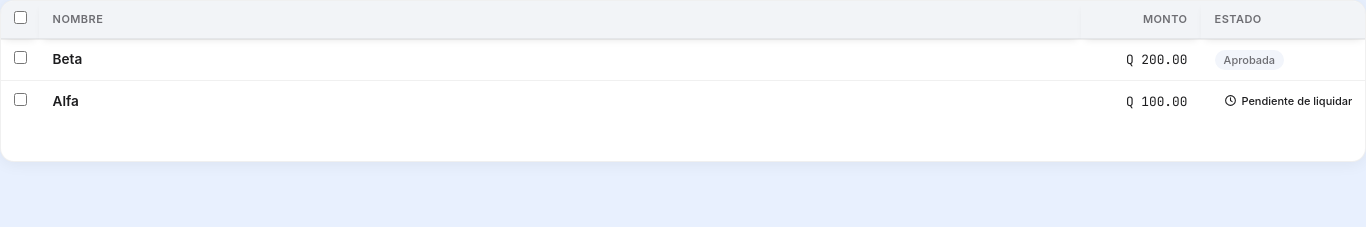
Test case: DataTable — selección y acciones masivas › marcar una fila muestra la barra de seleccion; Limpiar la oculta
Click the checkbox named "Seleccionar fila" next to "Beta" at (20, 58), box [14,52,26,64]
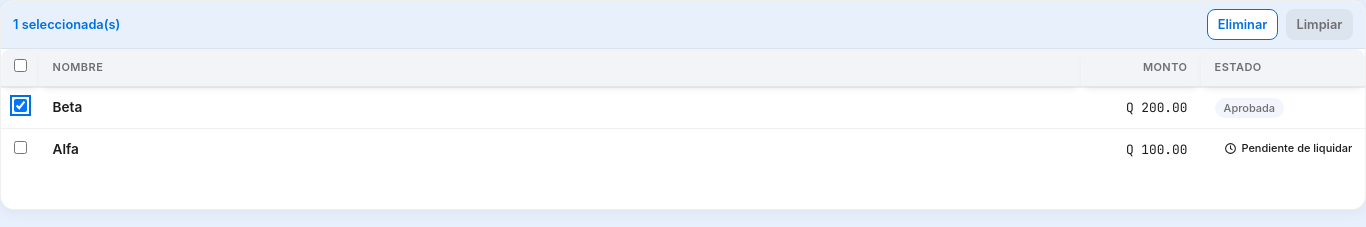
Check: the text "1 seleccionada(s)" is shown, box [13,15,120,34]
Click the button "Eliminar" at (1243, 24), box [1207,9,1278,40]
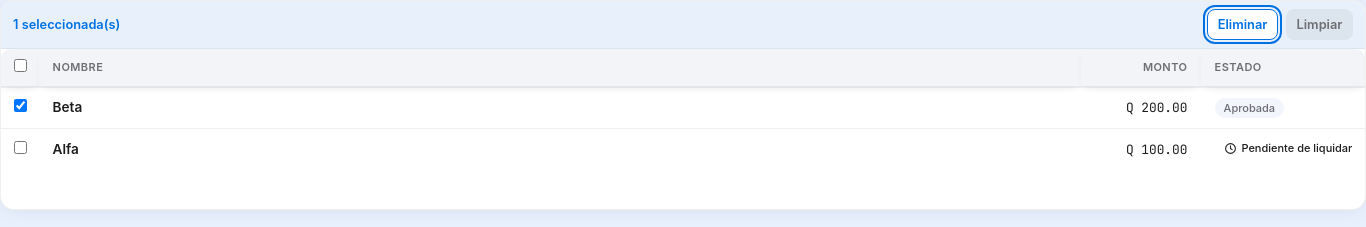
Click the button "Limpiar" at (1319, 24), box [1286,9,1353,40]
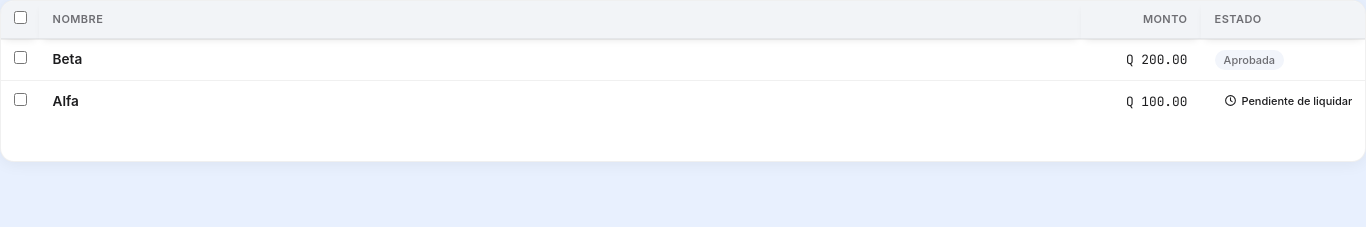
Check: the text "1 seleccionada(s)" is gone
